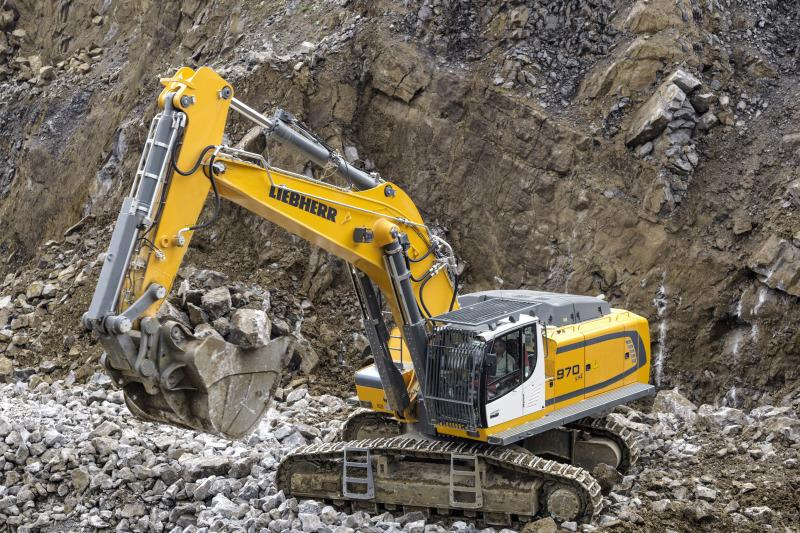excavator: (119, 72, 653, 438)
